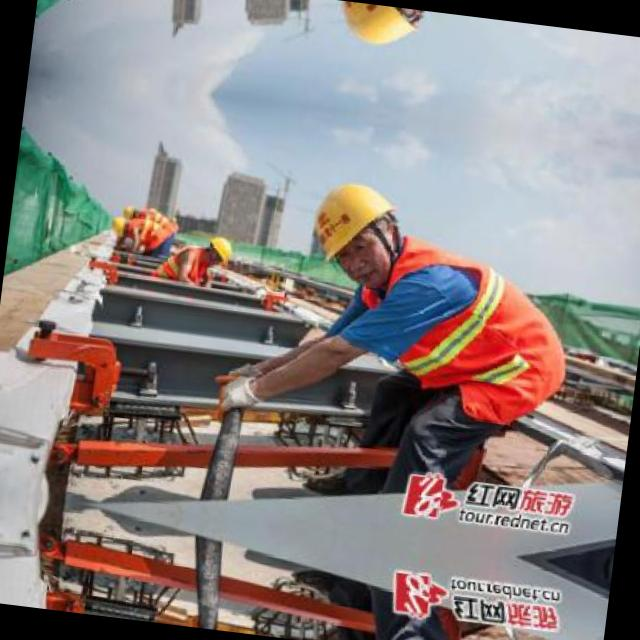helmet: (291, 163, 418, 290), (319, 0, 440, 61), (200, 230, 234, 268), (104, 210, 134, 235)
